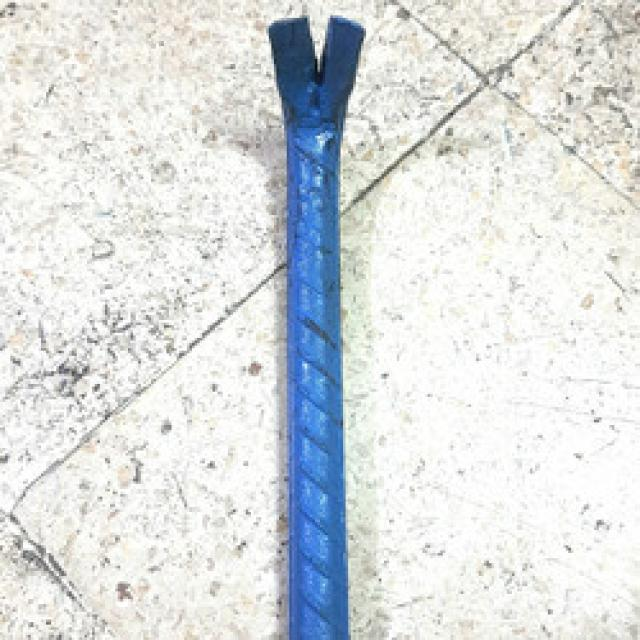Linggis: (255, 11, 388, 640)
